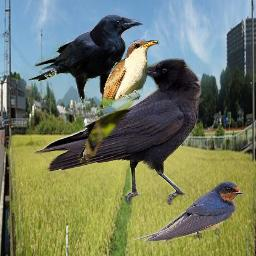Crow: (32, 58, 203, 205), (27, 14, 145, 107)
Cuckoo: (76, 37, 160, 165)
Swallow: (133, 180, 245, 244)
